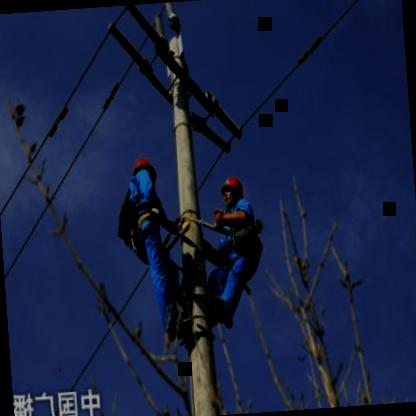helmet: (127, 153, 160, 192), (218, 176, 245, 216)
